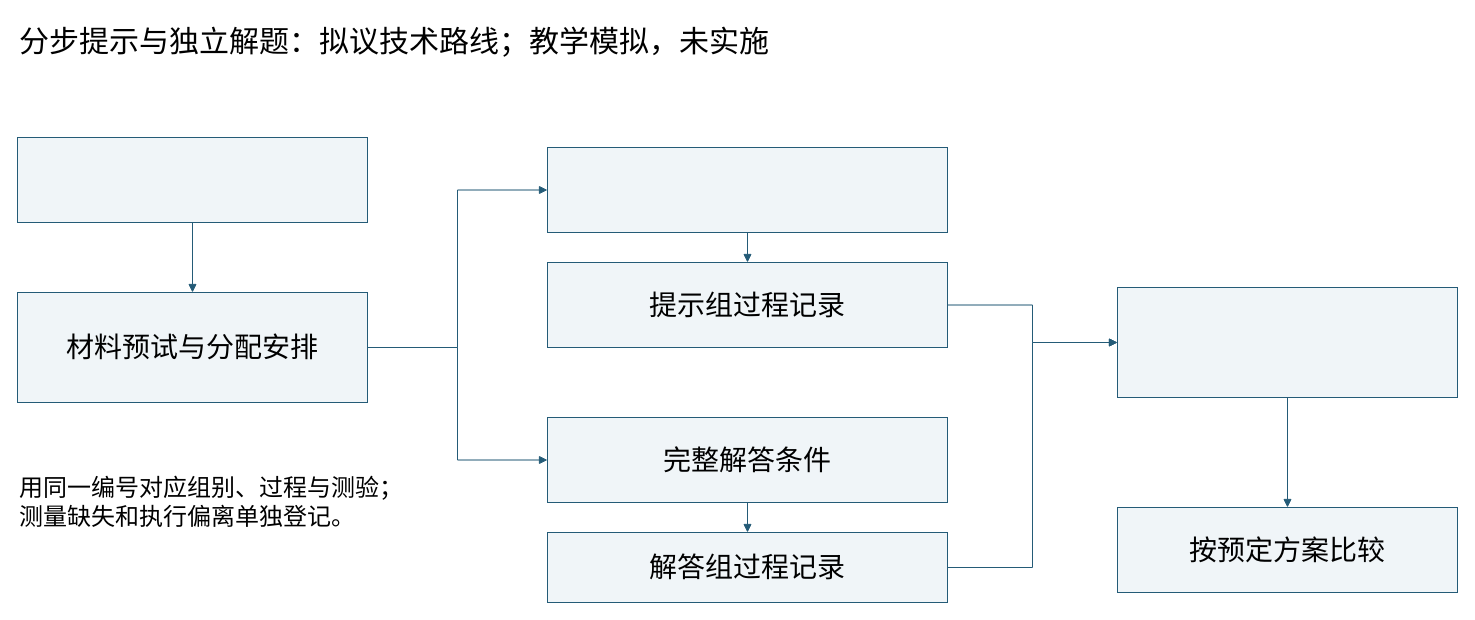
This 1475x620 diagram has some shape labels left out. Here are the shapes that lost their labels. From the top down, the box of each, then its label:
(16, 136, 368, 222): 题目与评分规则
(546, 146, 948, 232): 分步提示条件
(1116, 286, 1458, 398): 一周后无AI新题 按统一规则评分
